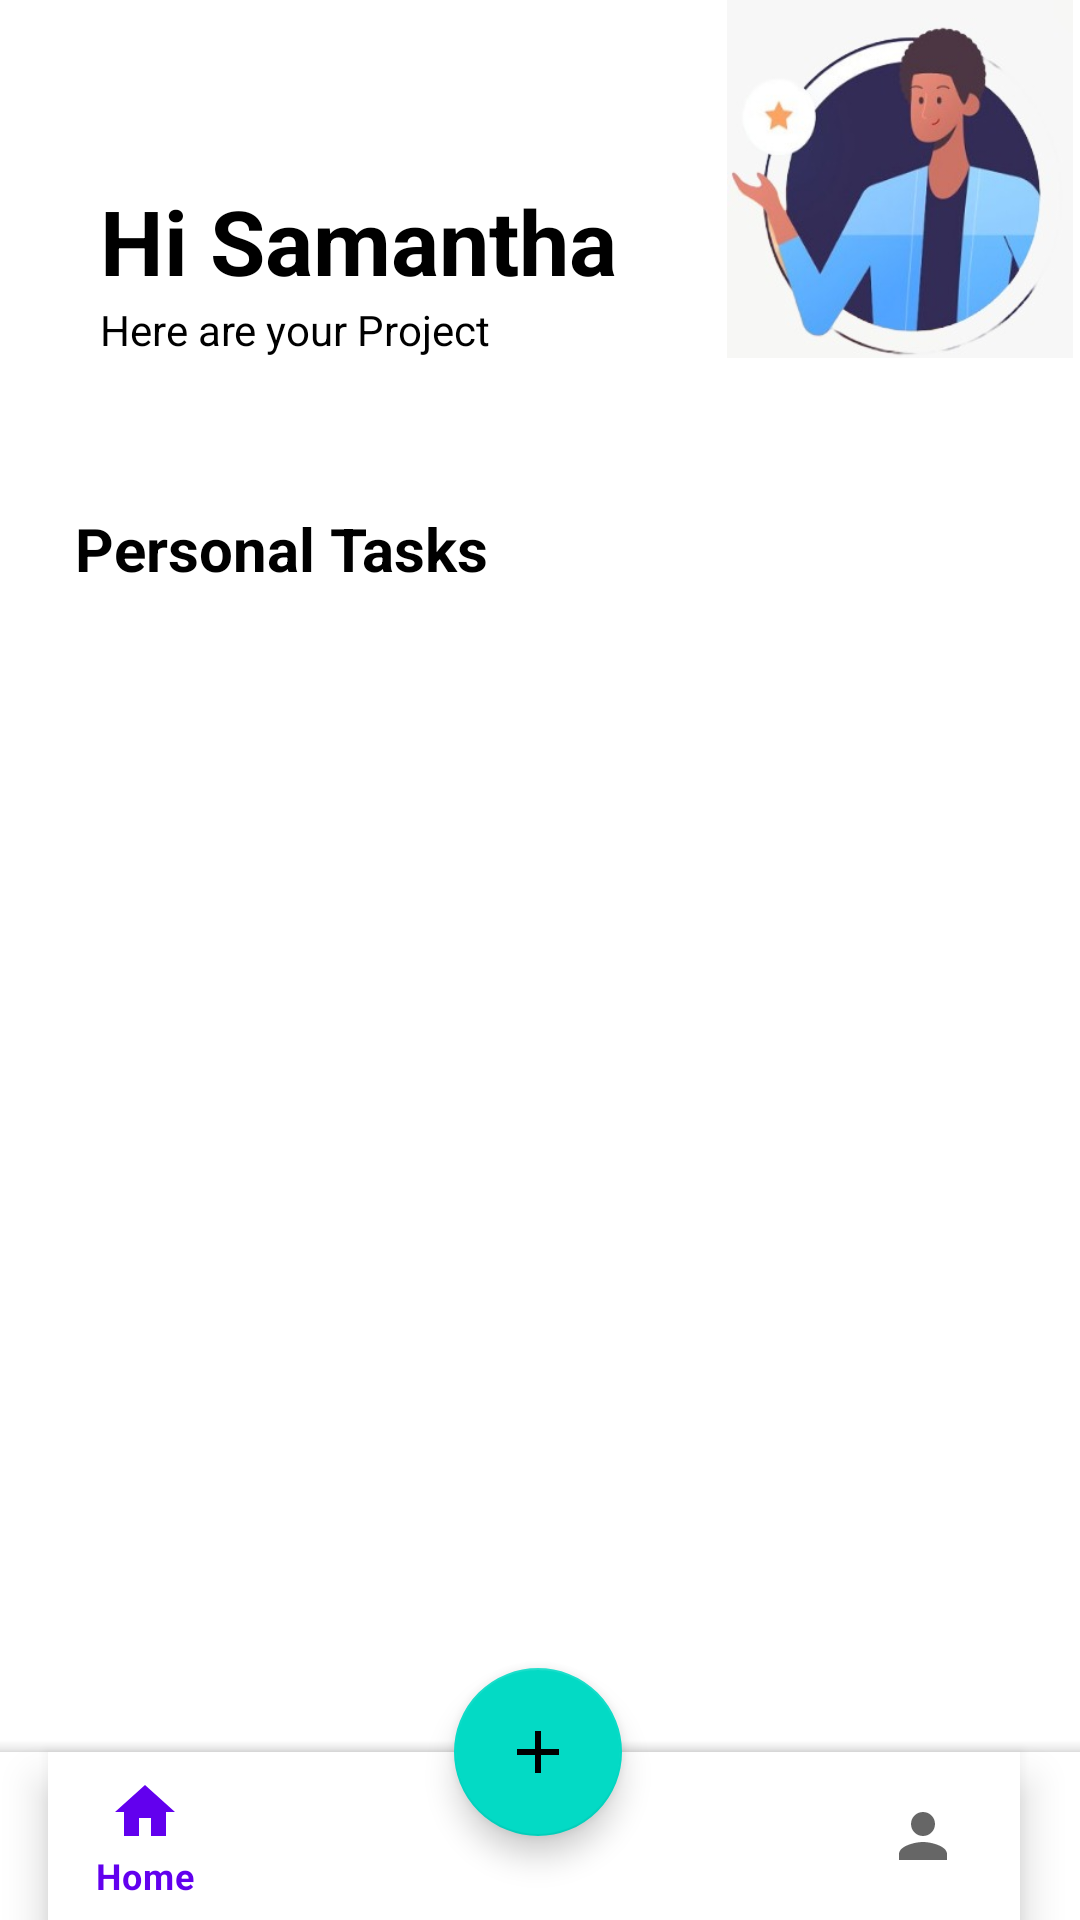

Where icons sit on this 1080 × 1920 app screen, as box=[x1, y1, x2, y2]:
add: box=[454, 1668, 622, 1836]
